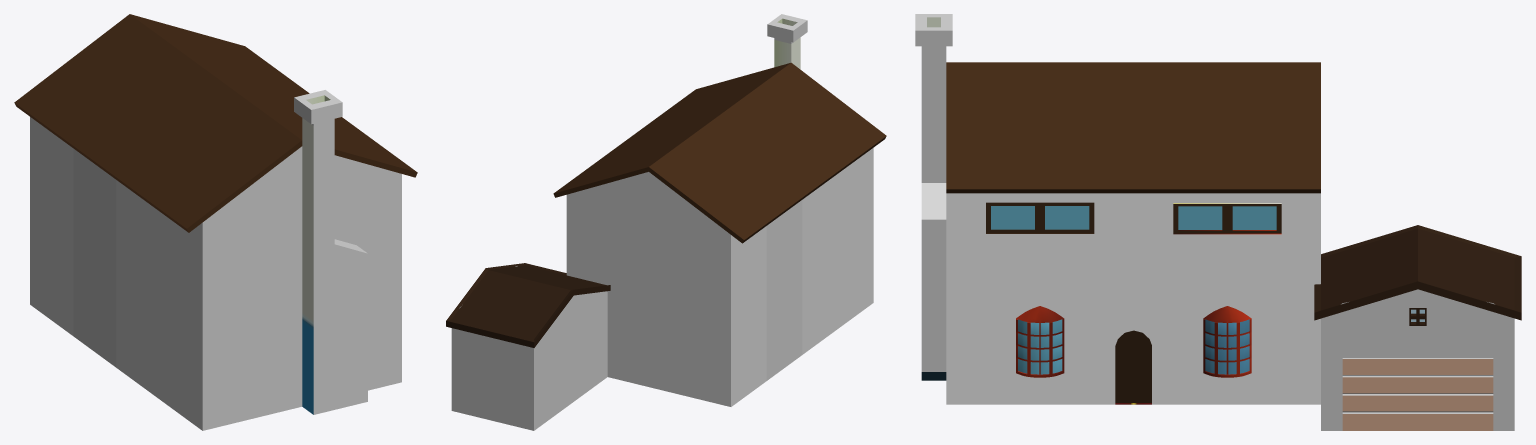
Rendered from House.glb.
3 views of the same model, side by side, from view 1: azimuth 30°, elevation 25°; view 2: azimuth 150°, elevation 25°; view 3: azimuth 270°, elevation 25° (orthographic). The views are drawn at different scales.
Parts seen in each view (by area): view 1: House base, roof; view 2: House base, roof, garage; view 3: House base, roof, garage.
Boxes of the visible parts, left/top/right/bottom form: House base: left=30, top=90, right=401, bottom=430; roof: left=14, top=14, right=417, bottom=232; House base: left=566, top=14, right=873, bottom=406; roof: left=553, top=62, right=886, bottom=243; garage: left=446, top=263, right=610, bottom=430; House base: left=915, top=14, right=1320, bottom=404; roof: left=946, top=62, right=1320, bottom=193; garage: left=1314, top=225, right=1521, bottom=430.
Size of the model in its own units: 8.09 by 8.88 by 14.56.
3 materials, 3 textured.
